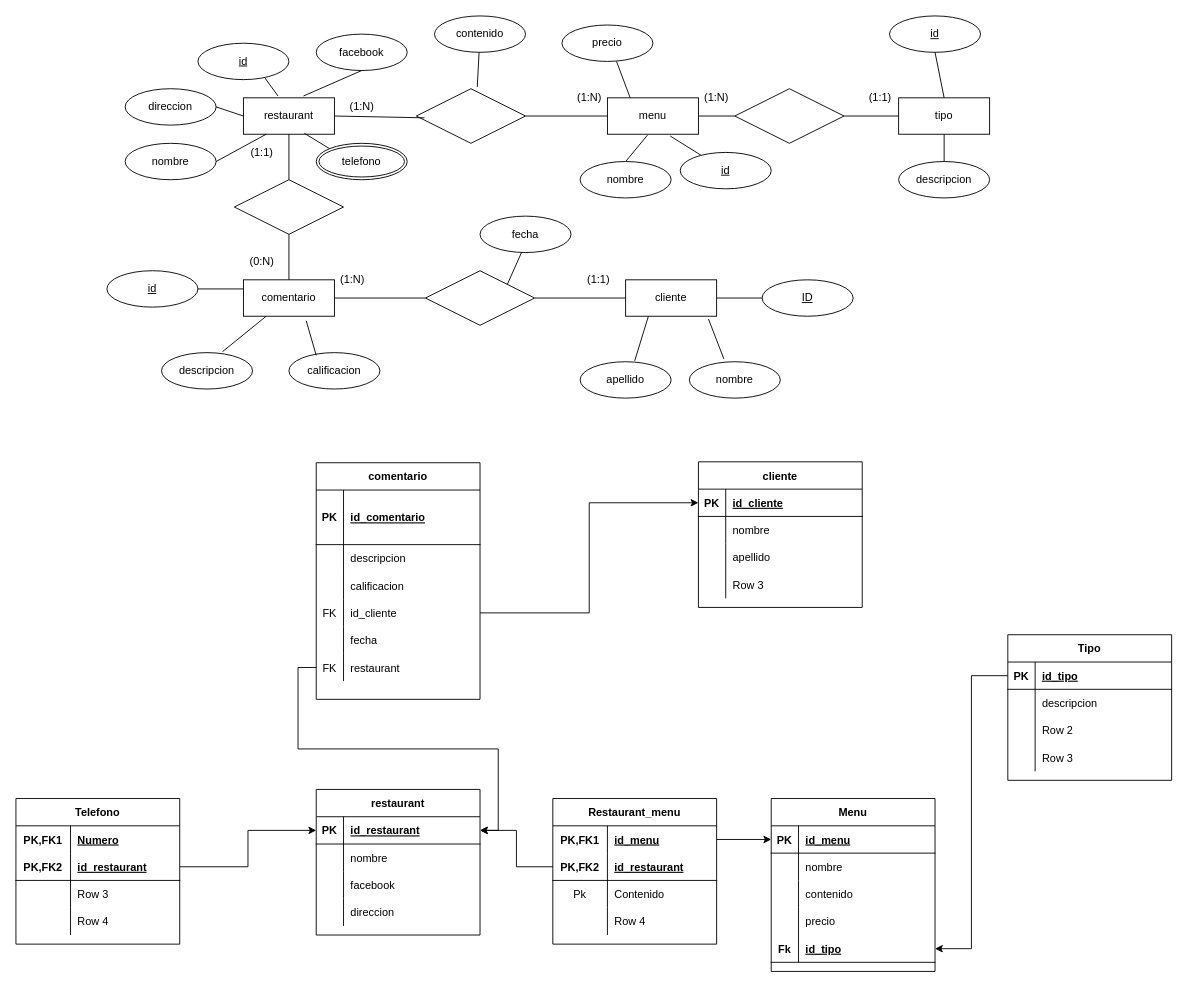
Image size: 1188x987. Some labels were removed from this diagram. The shapes that lost their labels are listed below. From the top down, each one's centre as x and y in pixels, then its label:
At point (470, 115): "posee".
At point (789, 115): "contiene".
At point (288, 206): "tiene".
At point (480, 297): "escriben".
